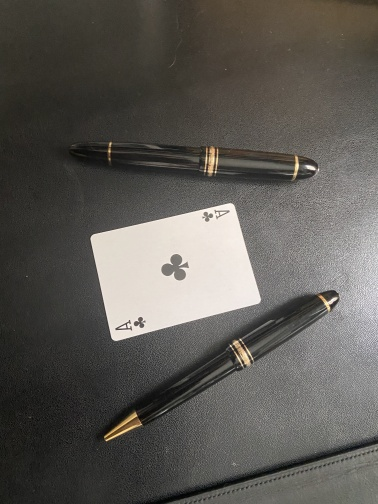ace: (90, 201, 262, 343)
